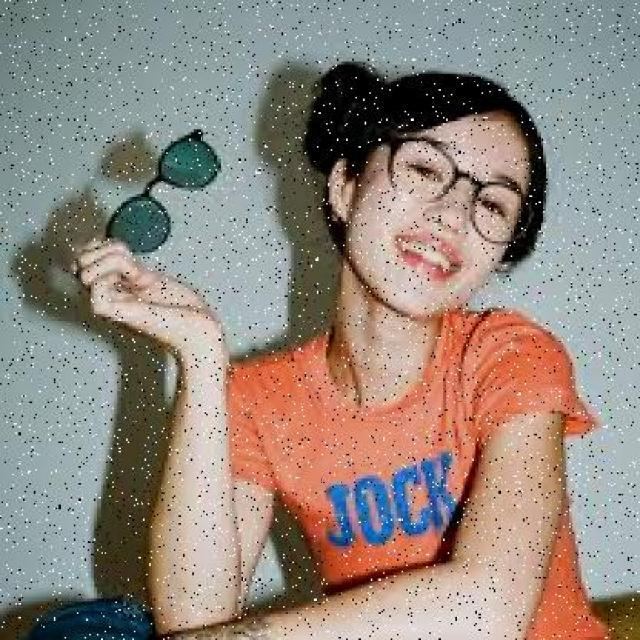glasses: (97, 120, 226, 262)
mask: (370, 132, 535, 255)
